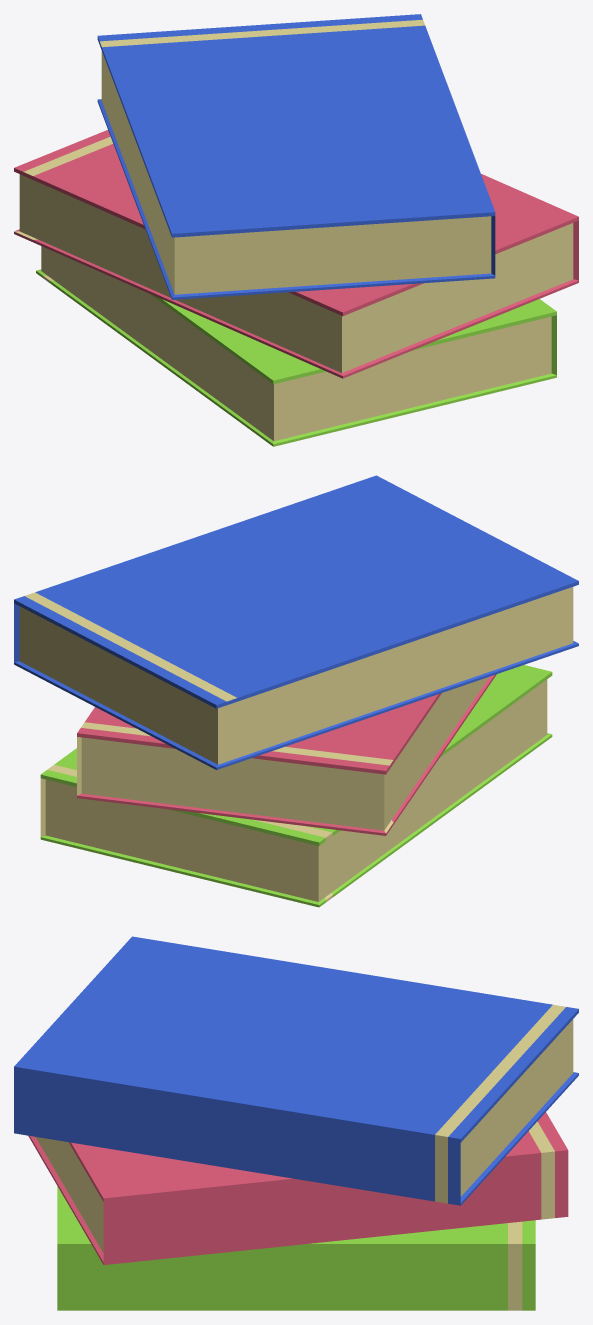
Rendered from Books.fbx.
3 views of the same model, one above another, from view 1: azimuth 30°, elevation 25°; view 2: azimuth 150°, elevation 25°; view 3: azimuth 270°, elevation 25° (orthographic). The views are drawn at different scales.
Parts seen in each view (by area): view 1: Cube.002, Cube.001, Cube; view 2: Cube.002, Cube, Cube.001; view 3: Cube.002, Cube.001, Cube.
Boxes of the visible parts, x1,y1,x2,y2 form: Cube.002: (97,14,495,299); Cube.001: (14,130,578,378); Cube: (36,246,556,446); Cube.002: (14,475,578,769); Cube: (40,665,552,907); Cube.001: (77,674,496,835); Cube.002: (14,936,578,1205); Cube.001: (28,1112,568,1264); Cube: (57,1186,535,1310).
Size of the model in its own units: 110 by 51.53 by 130.
